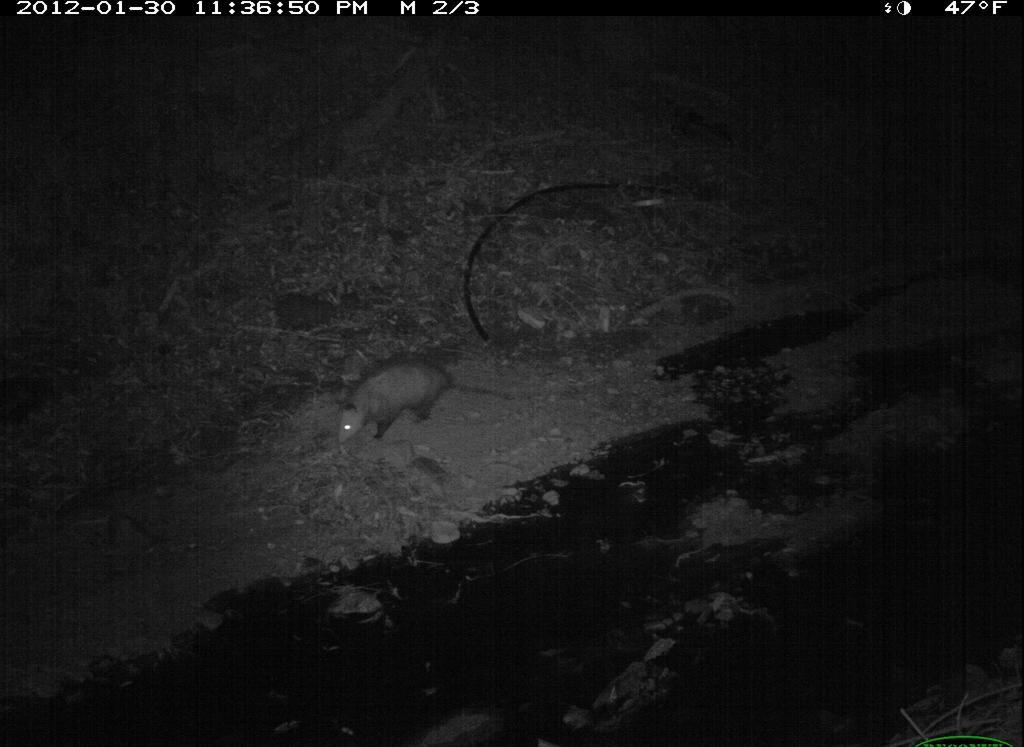opossum: (332, 354, 520, 457)
